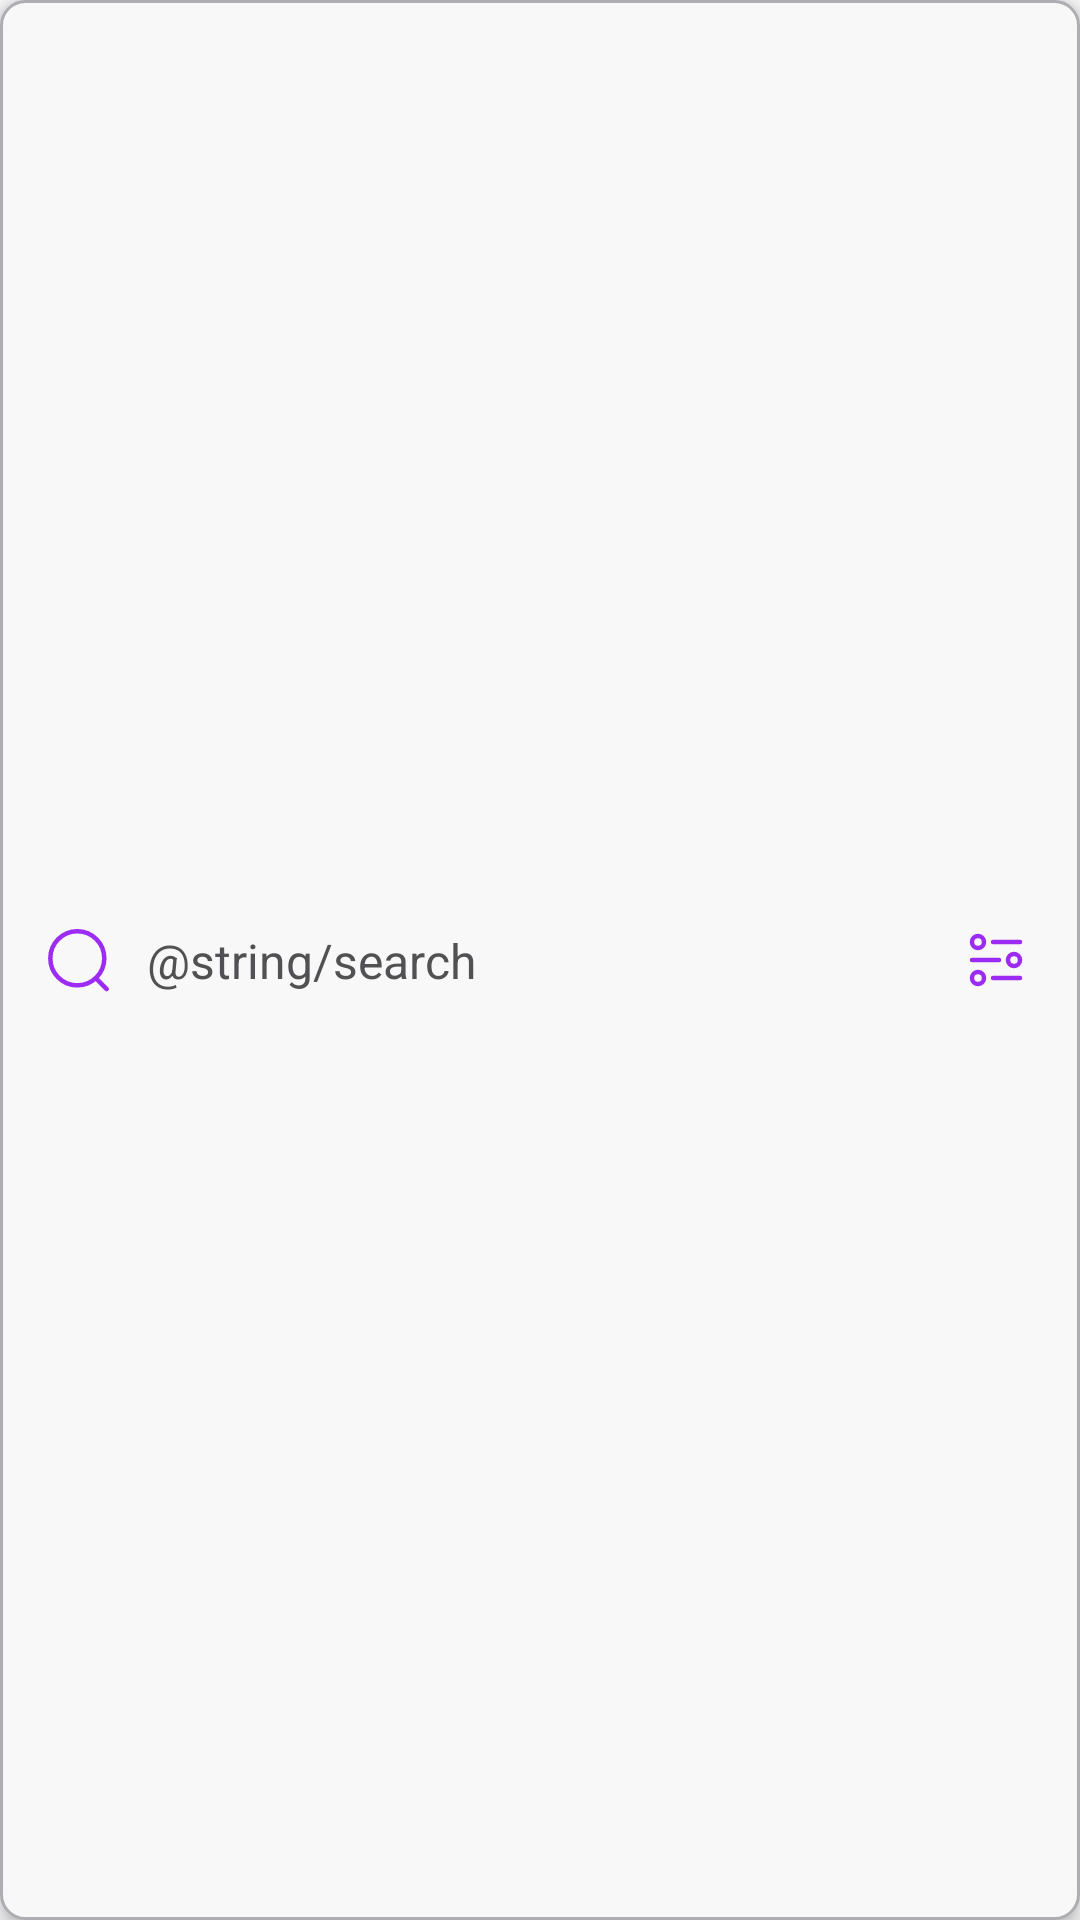

Screen size 1080×1920. Icon name, then its box in pixels as (x1,y1,x2,y2):
filter: (969,933,1023,987)
search: (48,929,109,992)
